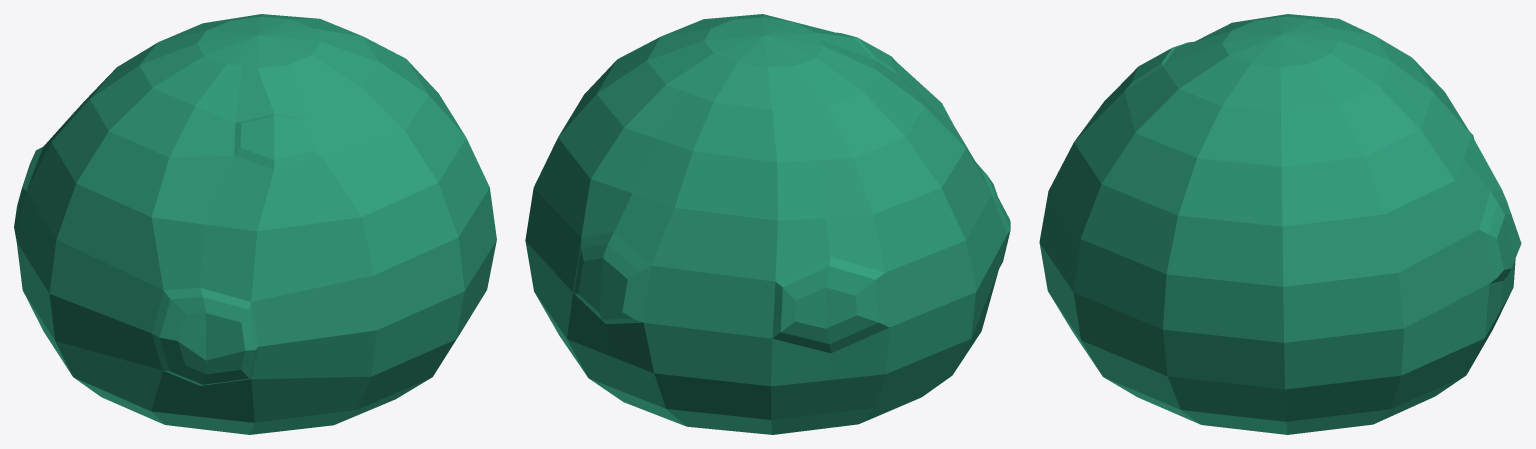
File: SM_E_AnnanasPlant_01.fbx
The picture shows the model from 3 angles, left to right: view 1: azimuth 30°, elevation 25°; view 2: azimuth 150°, elevation 25°; view 3: azimuth 270°, elevation 25°; orthographic projection.
Visible parts, largest first — view 1: SM_E_AnnanasPlant_01; view 2: SM_E_AnnanasPlant_01; view 3: SM_E_AnnanasPlant_01.
Part boxes in pixels (<box>): SM_E_AnnanasPlant_01: <box>14,14,496,434</box>; SM_E_AnnanasPlant_01: <box>525,14,1010,434</box>; SM_E_AnnanasPlant_01: <box>1039,14,1521,434</box>.
Bounding box in the file's own units: 621 × 487 × 615.
